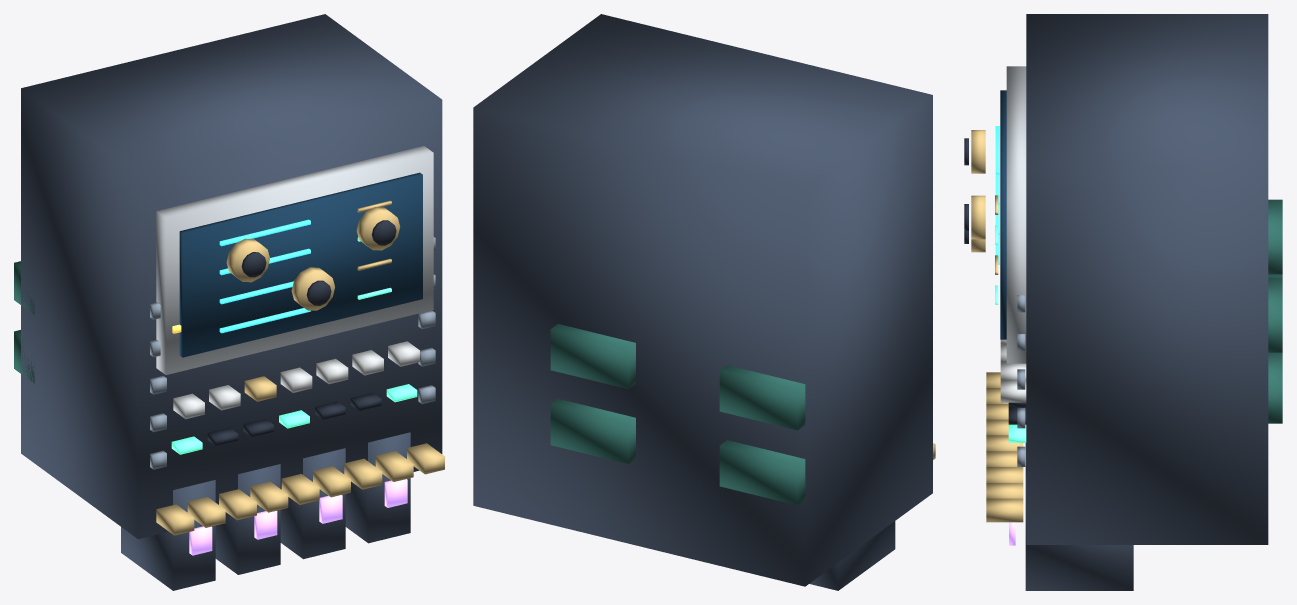
File: 67_L91_FourPulsarGeometryAnalyzer.glb
The picture shows the model from 3 angles, left to right: view 1: azimuth 30°, elevation 25°; view 2: azimuth 150°, elevation 25°; view 3: azimuth 270°, elevation 25°; orthographic projection. The views are drawn at different scales.
Visible parts, largest first — view 1: L91_FourPulsarGeometryAnalyze_Part_0000, L91_FourPulsarGeometryAnalyze_Part_0002, L91_FourPulsarGeometryAnalyze_Part_0001, L91_FourPulsarGeometryAnalyze_Part_0004, L91_FourPulsarGeometryAnalyze_Part_0006, L91_FourPulsarGeometryAnalyze_Part_0012, L91_FourPulsarGeometryAnalyze_Part_0008, L91_FourPulsarGeometryAnalyze_Part_0003, L91_FourPulsarGeometryAnalyze_Part_0007, L91_FourPulsarGeometryAnalyze_Part_0005, L91_FourPulsarGeometryAnalyze_Part_0015, L91_FourPulsarGeometryAnalyze_Part_0017 (+2 smaller); view 2: L91_FourPulsarGeometryAnalyze_Part_0000, L91_FourPulsarGeometryAnalyze_Part_0009; view 3: L91_FourPulsarGeometryAnalyze_Part_0000, L91_FourPulsarGeometryAnalyze_Part_0001, L91_FourPulsarGeometryAnalyze_Part_0004, L91_FourPulsarGeometryAnalyze_Part_0009, L91_FourPulsarGeometryAnalyze_Part_0002, L91_FourPulsarGeometryAnalyze_Part_0006, L91_FourPulsarGeometryAnalyze_Part_0008, L91_FourPulsarGeometryAnalyze_Part_0017, L91_FourPulsarGeometryAnalyze_Part_0013, L91_FourPulsarGeometryAnalyze_Part_0003, L91_FourPulsarGeometryAnalyze_Part_0005.
Boxes of the visible parts, x1=… form: L91_FourPulsarGeometryAnalyze_Part_0000: x1=21, y1=14, x2=442, y2=590; L91_FourPulsarGeometryAnalyze_Part_0002: x1=179, y1=172, x2=422, y2=357; L91_FourPulsarGeometryAnalyze_Part_0001: x1=156, y1=146, x2=433, y2=374; L91_FourPulsarGeometryAnalyze_Part_0004: x1=156, y1=200, x2=444, y2=535; L91_FourPulsarGeometryAnalyze_Part_0006: x1=173, y1=341, x2=419, y2=419; L91_FourPulsarGeometryAnalyze_Part_0012: x1=189, y1=479, x2=407, y2=555; L91_FourPulsarGeometryAnalyze_Part_0008: x1=150, y1=237, x2=435, y2=469; L91_FourPulsarGeometryAnalyze_Part_0003: x1=219, y1=219, x2=310, y2=333; L91_FourPulsarGeometryAnalyze_Part_0007: x1=207, y1=393, x2=381, y2=445; L91_FourPulsarGeometryAnalyze_Part_0005: x1=171, y1=237, x2=417, y2=454; L91_FourPulsarGeometryAnalyze_Part_0015: x1=291, y1=267, x2=334, y2=310; L91_FourPulsarGeometryAnalyze_Part_0017: x1=356, y1=207, x2=400, y2=250; L91_FourPulsarGeometryAnalyze_Part_0000: x1=473, y1=14, x2=932, y2=590; L91_FourPulsarGeometryAnalyze_Part_0009: x1=550, y1=324, x2=806, y2=505; L91_FourPulsarGeometryAnalyze_Part_0000: x1=1025, y1=14, x2=1268, y2=590; L91_FourPulsarGeometryAnalyze_Part_0001: x1=1006, y1=66, x2=1026, y2=363; L91_FourPulsarGeometryAnalyze_Part_0004: x1=986, y1=195, x2=1023, y2=522; L91_FourPulsarGeometryAnalyze_Part_0009: x1=1268, y1=199, x2=1282, y2=423; L91_FourPulsarGeometryAnalyze_Part_0002: x1=1000, y1=90, x2=1006, y2=339; L91_FourPulsarGeometryAnalyze_Part_0006: x1=1000, y1=339, x2=1026, y2=402; L91_FourPulsarGeometryAnalyze_Part_0008: x1=1017, y1=295, x2=1025, y2=466; L91_FourPulsarGeometryAnalyze_Part_0017: x1=971, y1=195, x2=985, y2=239; L91_FourPulsarGeometryAnalyze_Part_0013: x1=971, y1=130, x2=985, y2=173; L91_FourPulsarGeometryAnalyze_Part_0003: x1=995, y1=126, x2=999, y2=264; L91_FourPulsarGeometryAnalyze_Part_0005: x1=995, y1=225, x2=1026, y2=442.
Bounding box in the file's own units: 1.08 × 1.44 × 0.9429.
